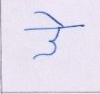e_matra: (32, 10, 66, 26)
